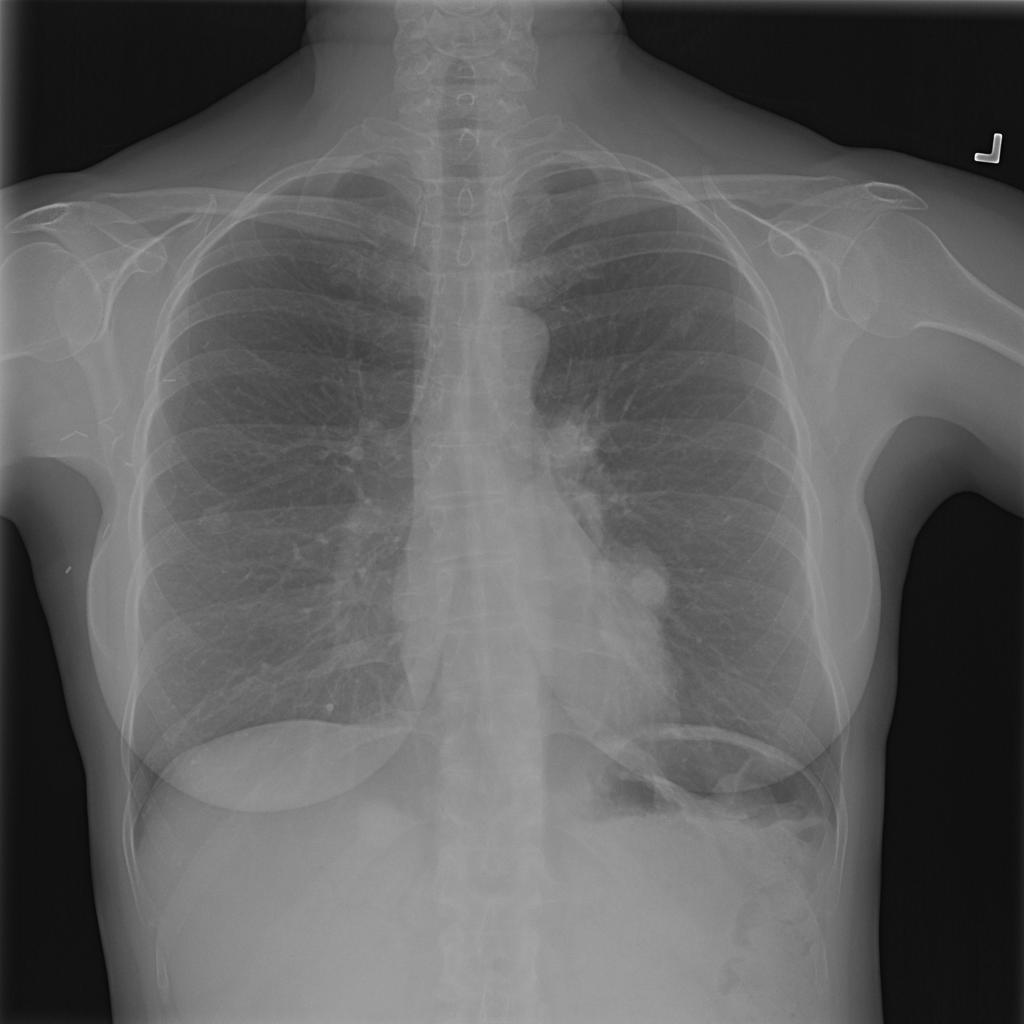nodule: (343, 786, 419, 866), (610, 551, 680, 624), (188, 495, 244, 543)
